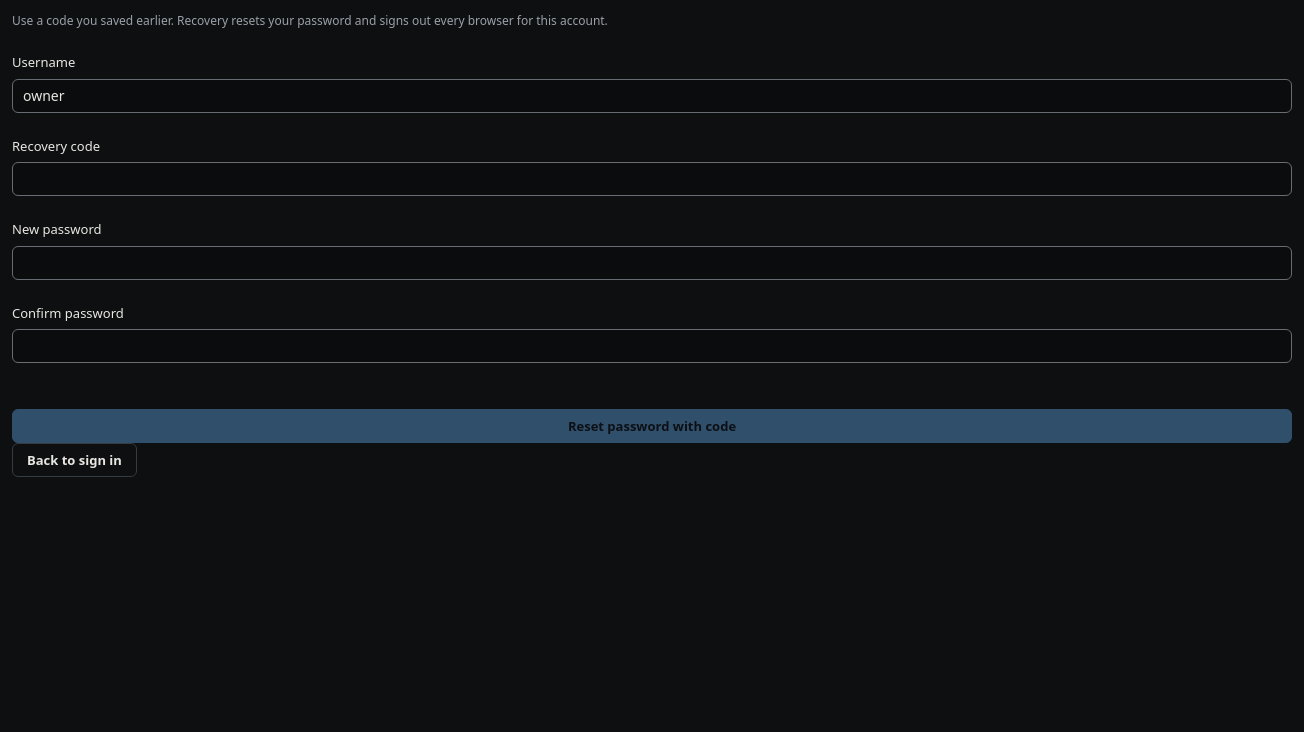
Test case: account recovery sign-in boundary › reports an uncertain timed-out result and ignores a late success without replaying
This screenshot has width=1304, height=732.
Type "ABCD-ABCD-ABCD-ABCD-ABCD-ABCD-ABCD-ABCD" into the password field labelled "Recovery code".
click(652, 179); type("ABCD-ABCD-ABCD-ABCD-ABCD-ABCD-ABCD-ABCD")  # box [12,162,1292,196]
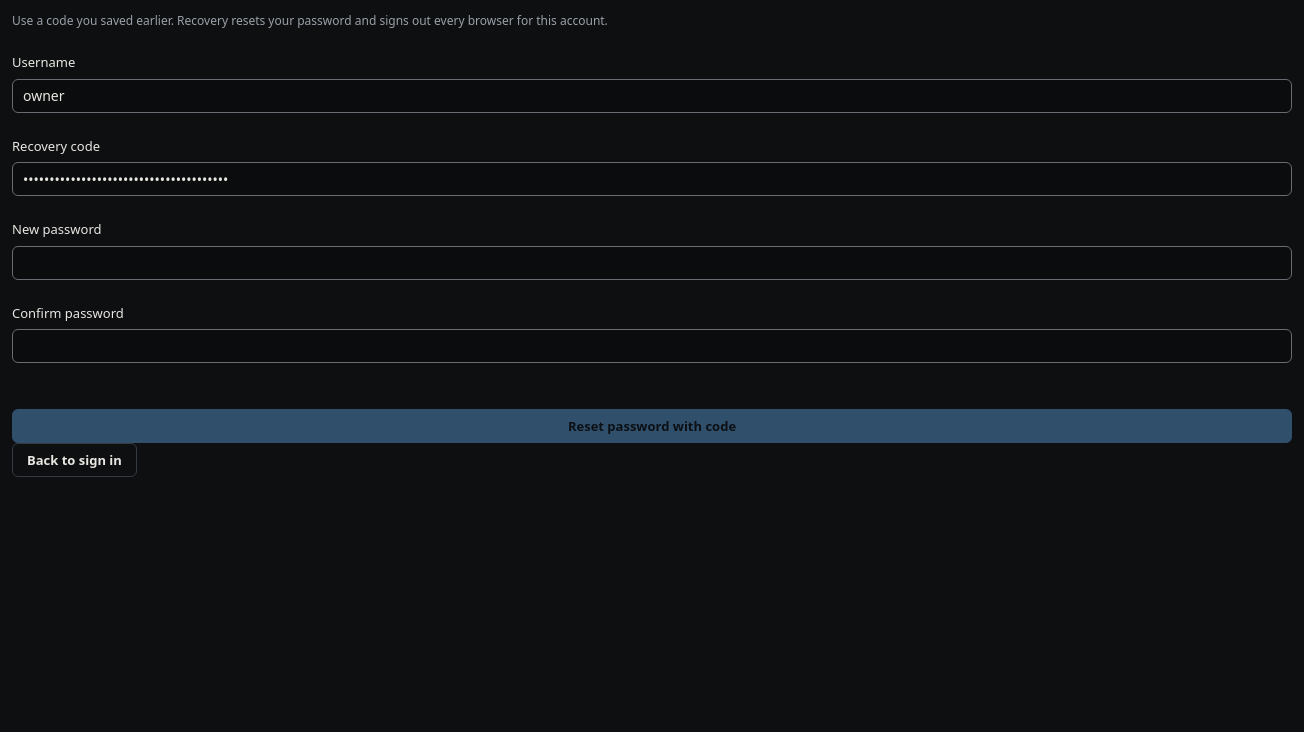
Type "synthetic replacement password" into the password field labelled "New password".
click(652, 263); type("synthetic replacement password")  # box [12,246,1292,280]
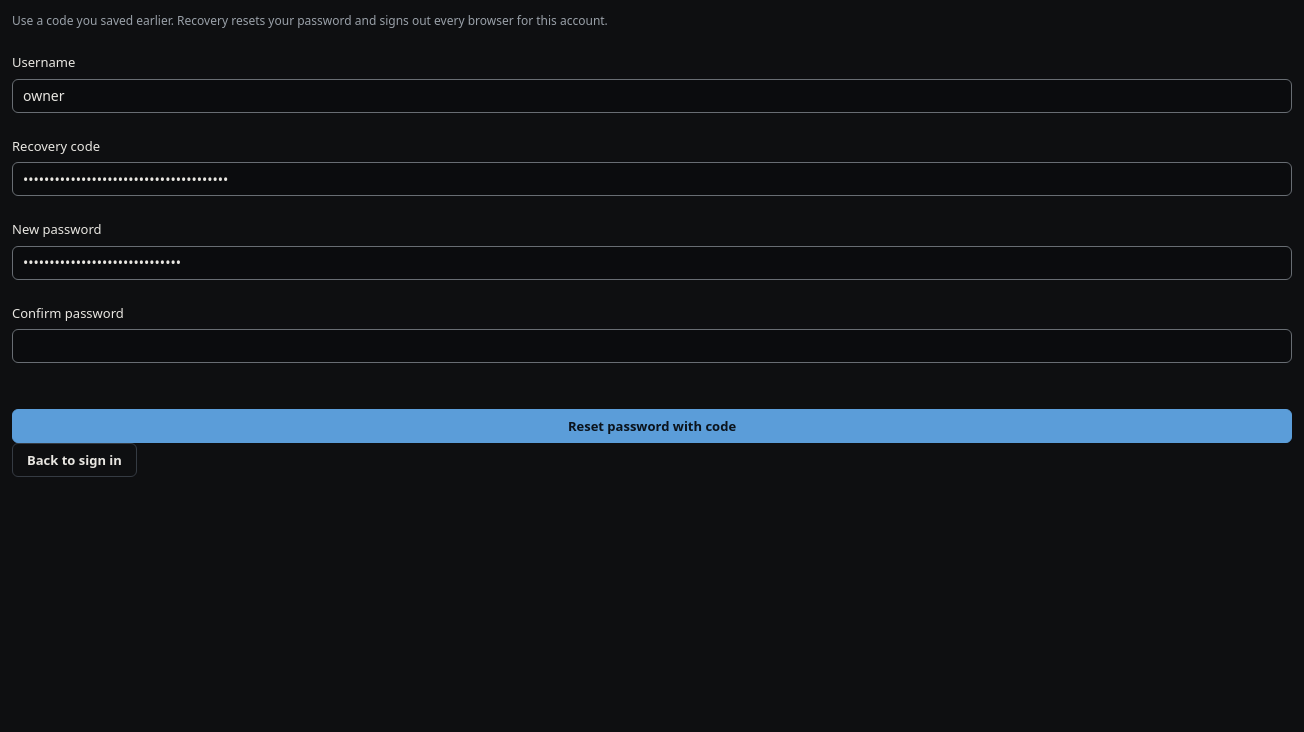
Type "synthetic replacement password" into the password field labelled "Confirm password".
click(652, 346); type("synthetic replacement password")  # box [12,329,1292,363]
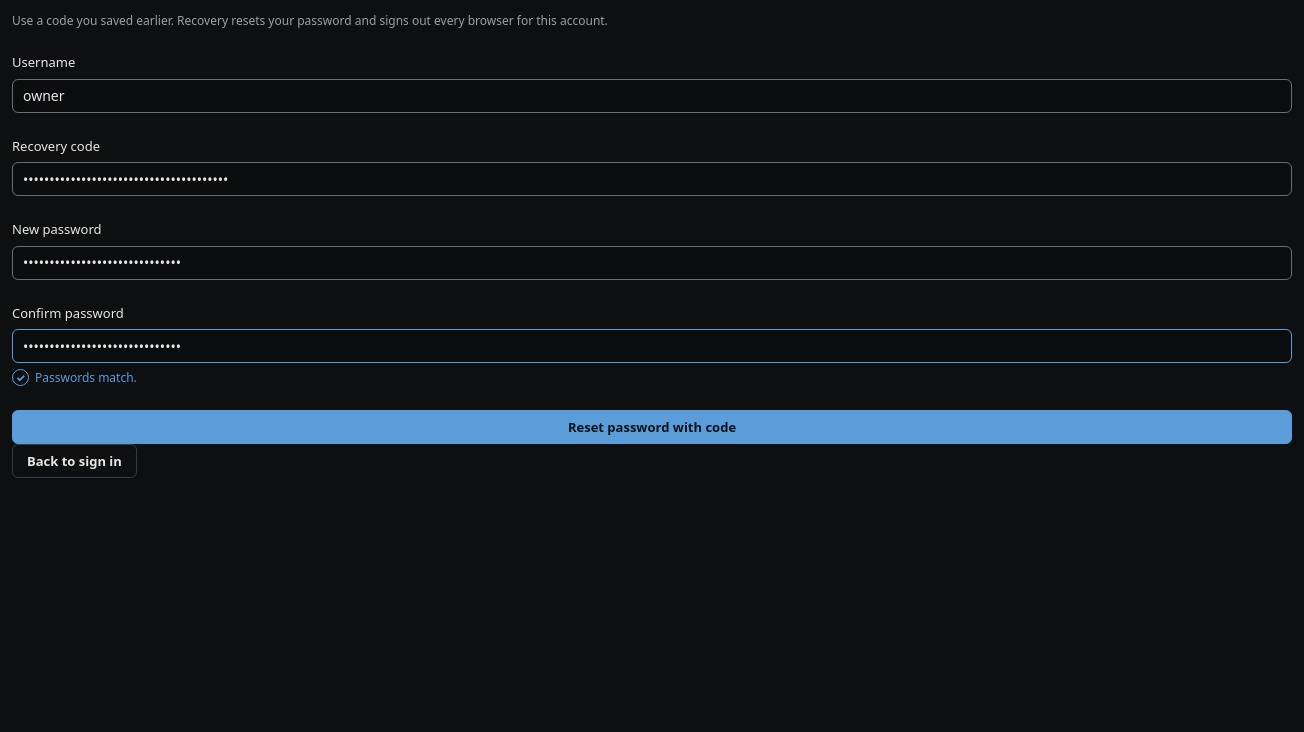
Submit the form named "Reset password with code", box [12,12,1292,444]
Wait 10001 ms
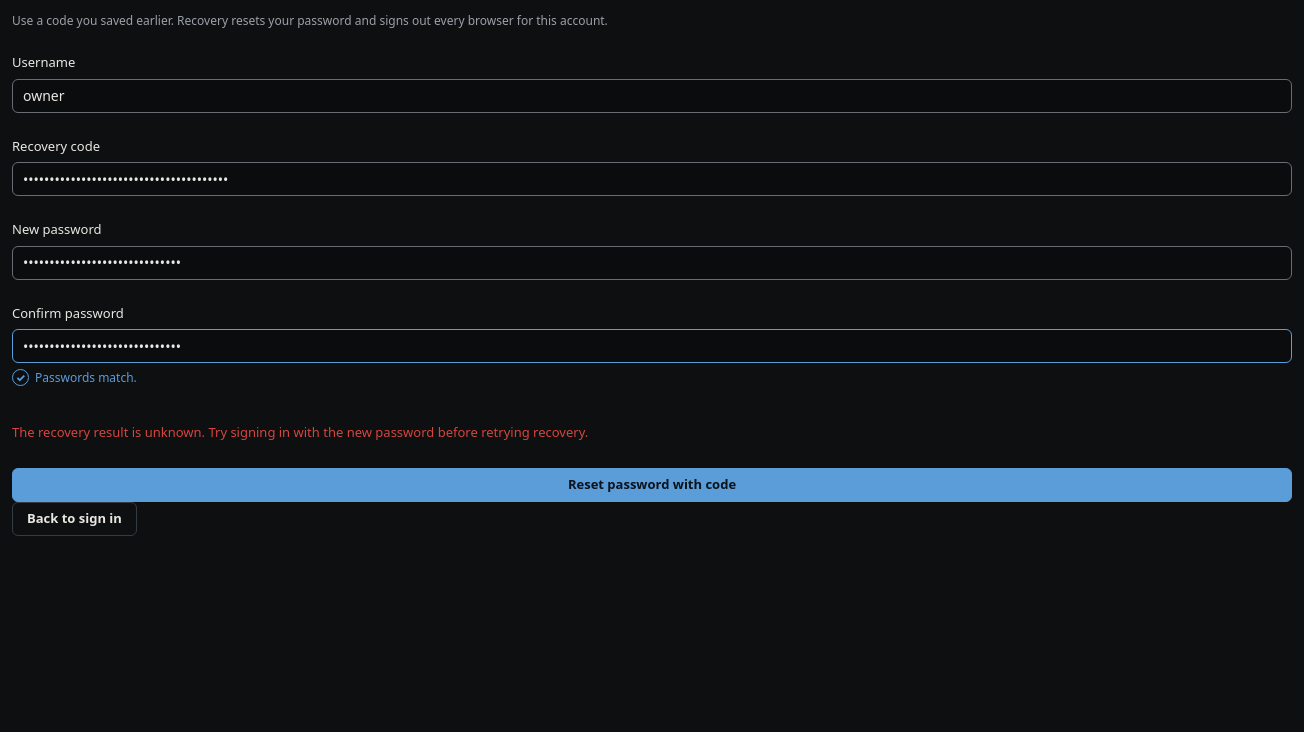
Check: the button "Reset password with code" is enabled, box [12,468,1292,502]
Check: the message shows "Try signing in with the new password before retrying", box [12,423,588,441]
